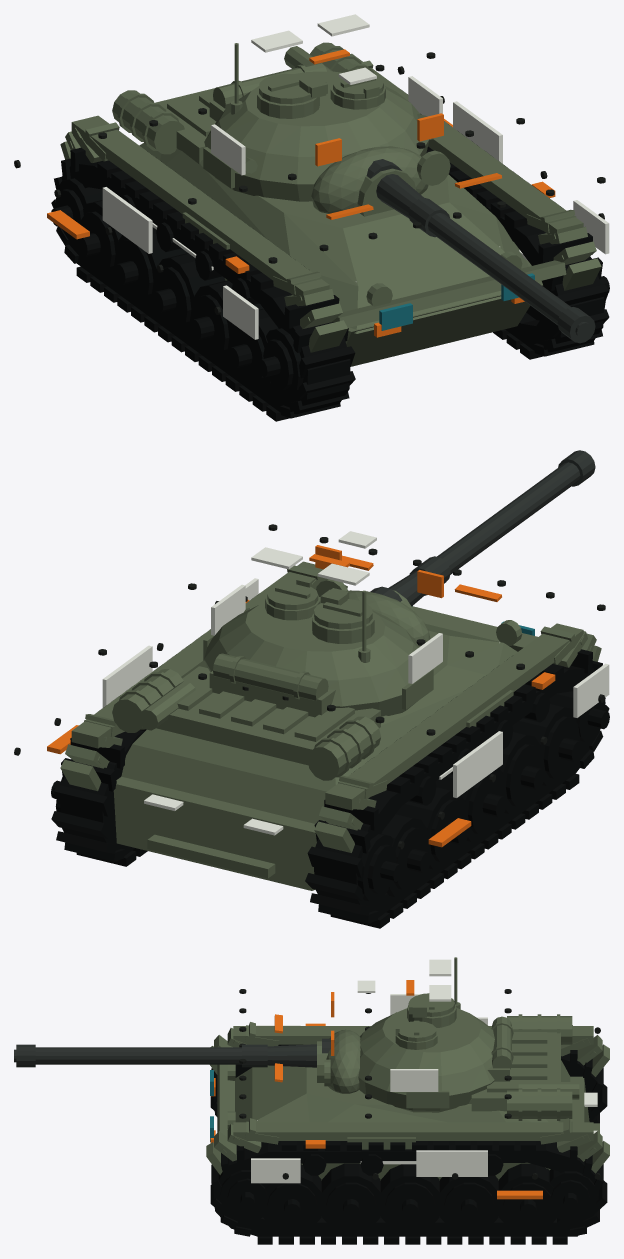
Rendered from light_tank.obj.
3 views of the same model, one above another, from view 1: azimuth 30°, elevation 25°; view 2: azimuth 150°, elevation 25°; view 3: azimuth 270°, elevation 25° (orthographic). The views are drawn at different scales.
Parts seen in each view (by area): view 1: BodyRoot_Hull, TrackLeft, TurretRoot_Turret, TrackRight, BarrelRoot_Barrel, TeamColorPanels_Body, TeamColorPanels_Turret, Emissive_Body, Emissive_Turret, Bolts, Glass_Body; view 2: BodyRoot_Hull, TrackLeft, TurretRoot_Turret, TrackRight, BarrelRoot_Barrel, TeamColorPanels_Body, TeamColorPanels_Turret, Emissive_Body, Bolts, Emissive_Turret; view 3: TrackRight, BodyRoot_Hull, TurretRoot_Turret, BarrelRoot_Barrel, TeamColorPanels_Body, TeamColorPanels_Turret, TrackLeft, Emissive_Body, Bolts.
Boxes of the visible parts, x1,y1,x2,y2 form: BodyRoot_Hull: (60, 42, 601, 366); TrackLeft: (51, 147, 355, 421); TurretRoot_Turret: (203, 43, 450, 216); TrackRight: (402, 90, 609, 359); BarrelRoot_Barrel: (366, 159, 595, 343); TeamColorPanels_Body: (102, 101, 609, 339); TeamColorPanels_Turret: (211, 14, 442, 175); Emissive_Body: (47, 119, 555, 337); Emissive_Turret: (309, 49, 443, 166); Bolts: (14, 52, 605, 314); Glass_Body: (379, 273, 534, 330); BodyRoot_Hull: (60, 561, 601, 890); TrackLeft: (305, 649, 609, 928); TurretRoot_Turret: (203, 578, 433, 717); TrackRight: (51, 598, 252, 866); BarrelRoot_Barrel: (370, 450, 595, 606); TeamColorPanels_Body: (102, 578, 609, 835); TeamColorPanels_Turret: (211, 531, 442, 683); Emissive_Body: (47, 555, 555, 847); Bolts: (14, 524, 605, 849); Emissive_Turret: (309, 545, 443, 598); TrackRight: (210, 1141, 607, 1244); BodyRoot_Hull: (206, 1014, 609, 1180); TurretRoot_Turret: (317, 957, 513, 1112); BarrelRoot_Barrel: (14, 1038, 334, 1067); TeamColorPanels_Body: (251, 1017, 597, 1183); TeamColorPanels_Turret: (357, 959, 451, 1091); TrackLeft: (210, 1044, 607, 1123); Emissive_Body: (210, 1014, 542, 1199); Bolts: (239, 989, 600, 1179).
Bounding box in the file's own units: 3.56 × 2.3 × 5.98.
